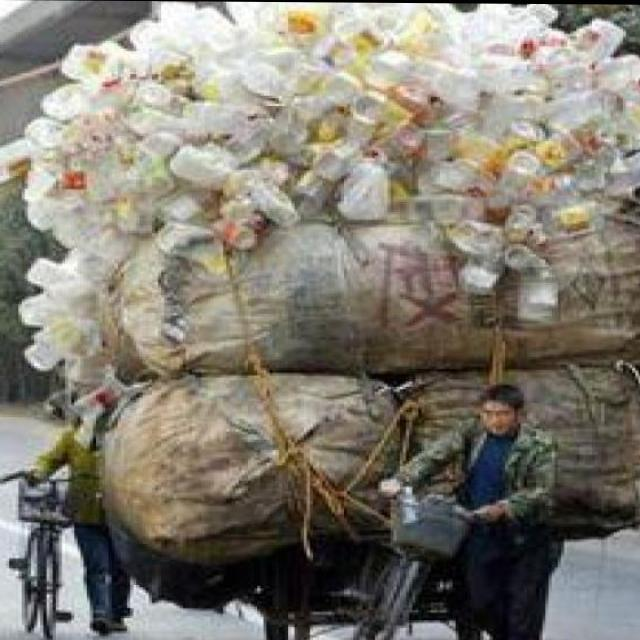uncovered: (1, 0, 640, 618)
